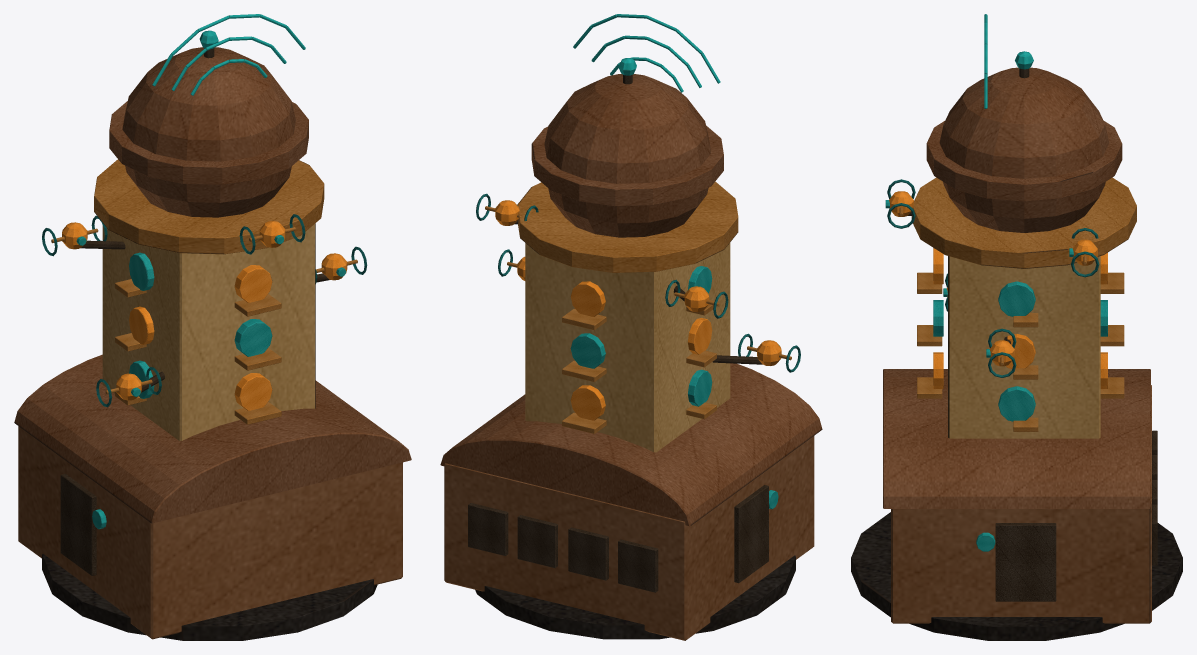
The model's file is drone-coop.glb.
The picture shows the model from 3 angles, left to right: view 1: azimuth 30°, elevation 25°; view 2: azimuth 150°, elevation 25°; view 3: azimuth 270°, elevation 25°; orthographic projection. The views are drawn at different scales.
Parts seen in each view (by area): view 1: DroneCoopE7; view 2: DroneCoopE7; view 3: DroneCoopE7.
Part boxes in pixels (<box>): DroneCoopE7: <box>14,14,411,640</box>; DroneCoopE7: <box>440,14,822,640</box>; DroneCoopE7: <box>851,14,1182,640</box>.
Bounding box in the file's own units: 4.41 × 8.18 × 4.48.
Materials: 1 (1 with a texture image).
